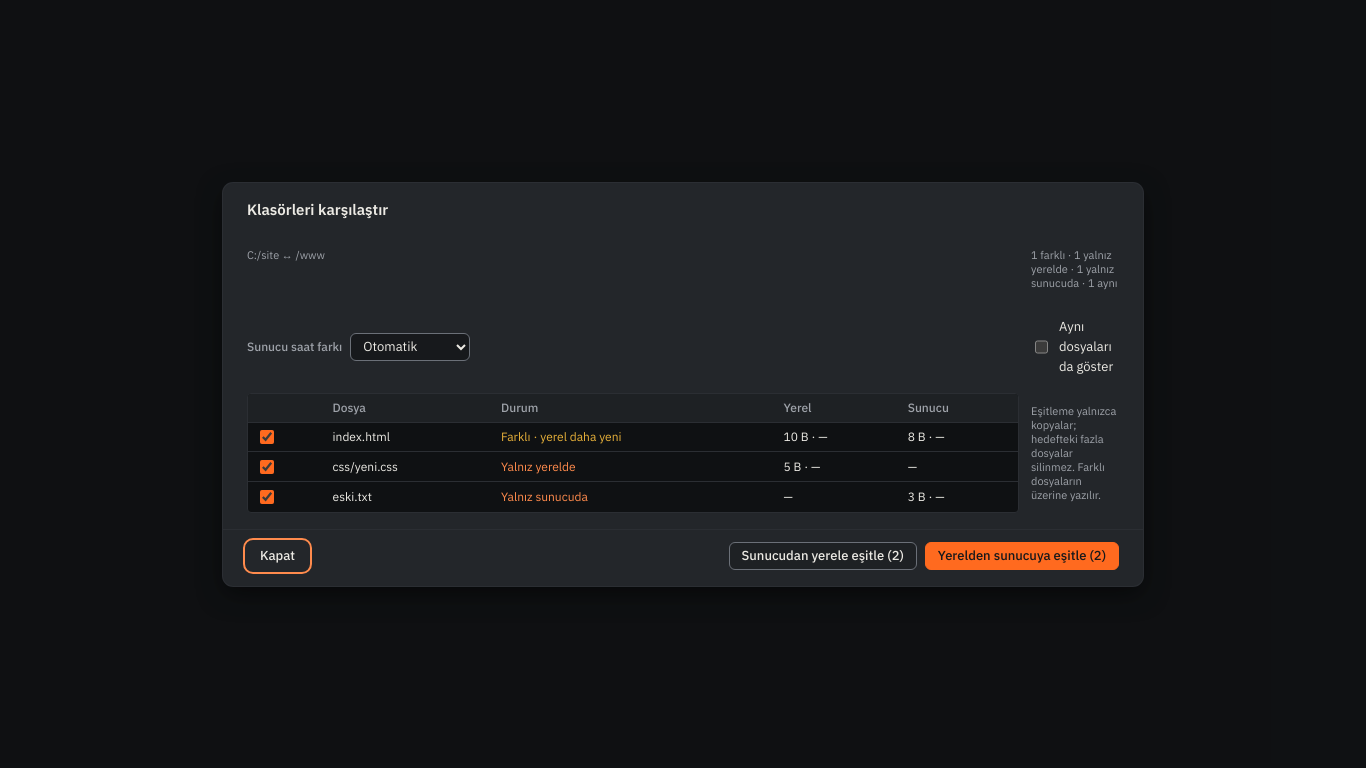
it: CompareModal › lists differences and queues the selected files for upload
The width and height of the screenshot is (1366, 768).
Expected: the text named "Karşılaştırma özeti" reads "1 farklı · 1 yalnız yerelde · 1 yalnız sunucuda · 1 aynı", x1=1031 y1=248 x2=1119 y2=290
Step 1. Click the checkbox named "css/yeni.css seç" → (267, 467), box x1=260 y1=460 x2=274 y2=474
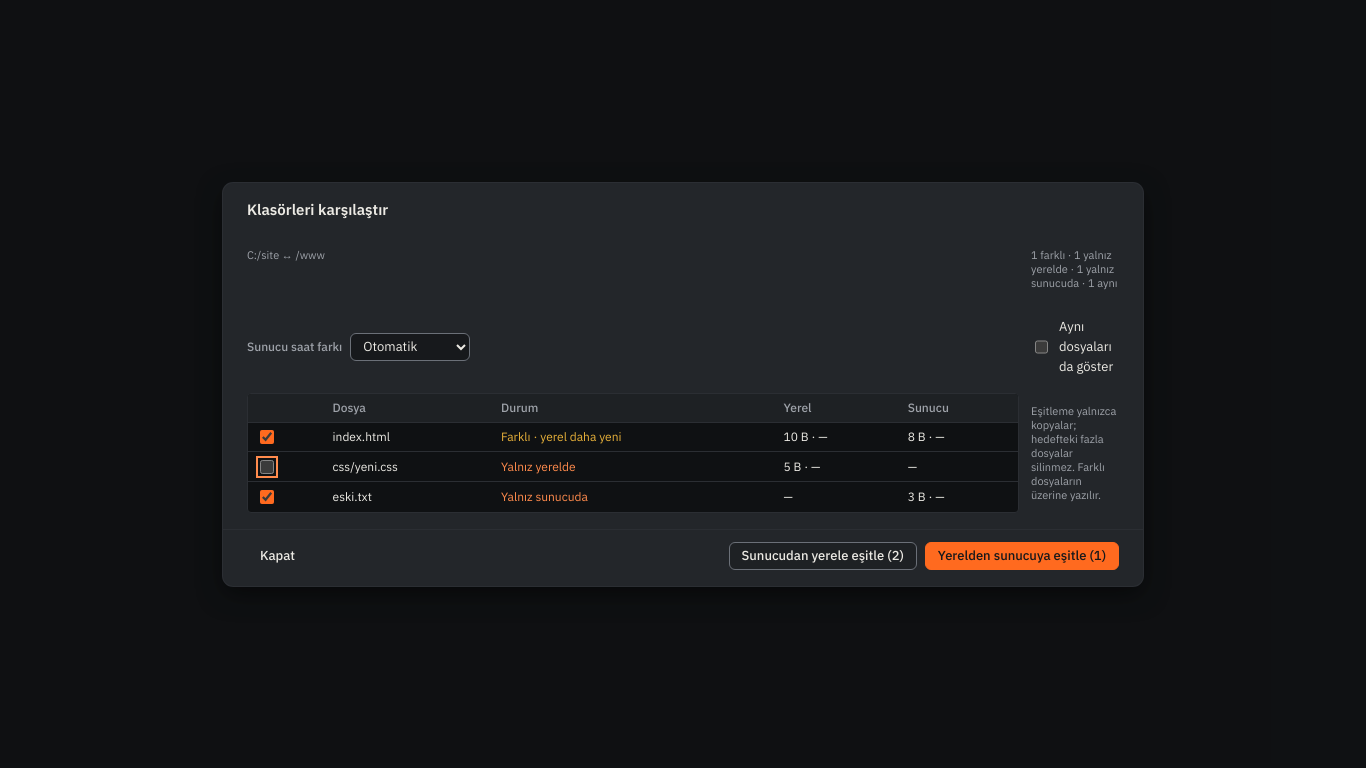
Step 2. Click the button "Yerelden sunucuya eşitle (1)" → (1022, 556), box x1=925 y1=542 x2=1119 y2=570
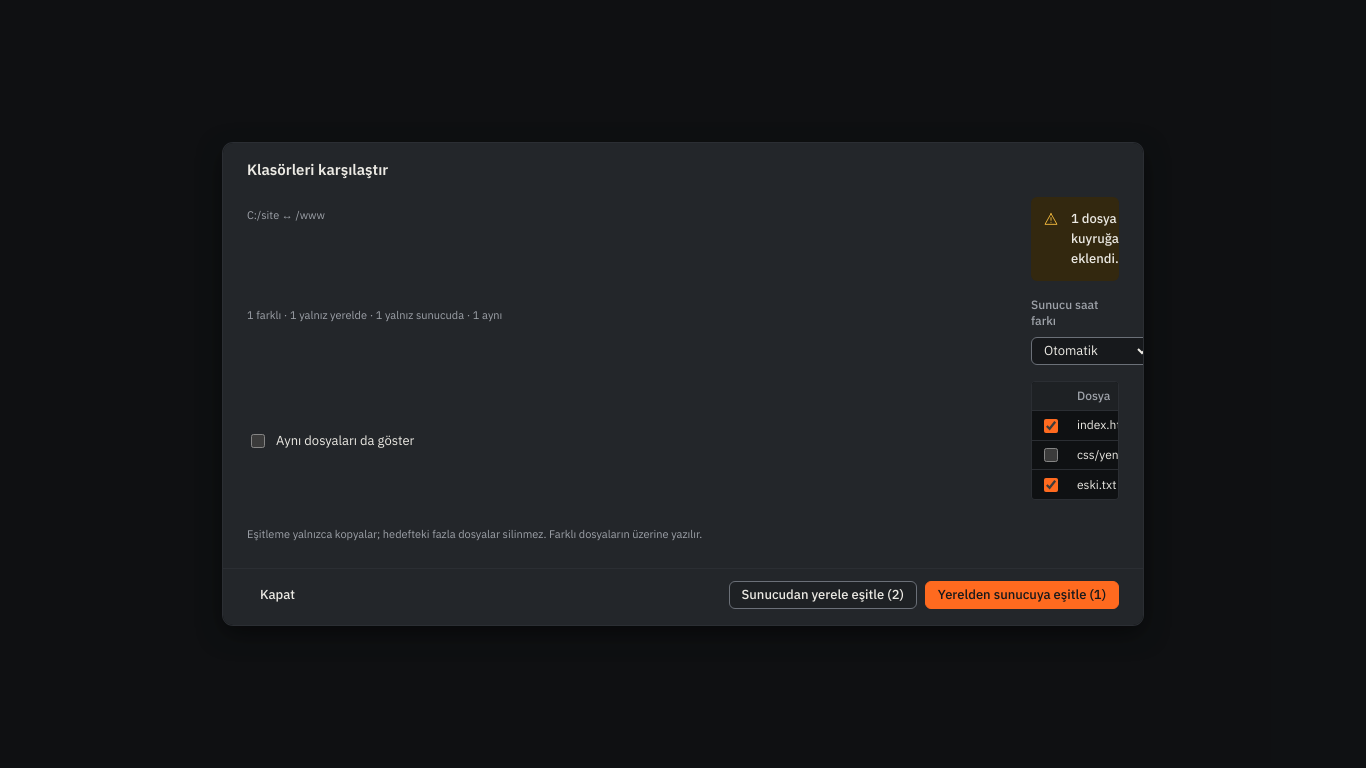
Result: the text "1 dosya kuyruğa eklendi." is shown at x1=1071 y1=209 x2=1119 y2=269
